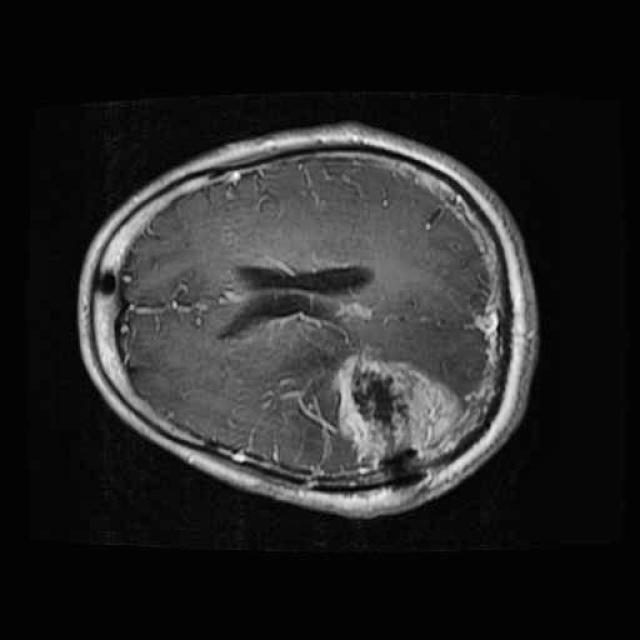Non-Tumor: (321, 336, 476, 491)
